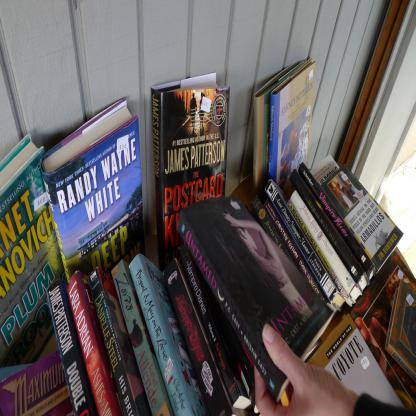book: (44, 153, 405, 416), (40, 98, 148, 278), (0, 133, 68, 366), (148, 68, 228, 266), (254, 64, 312, 190)
